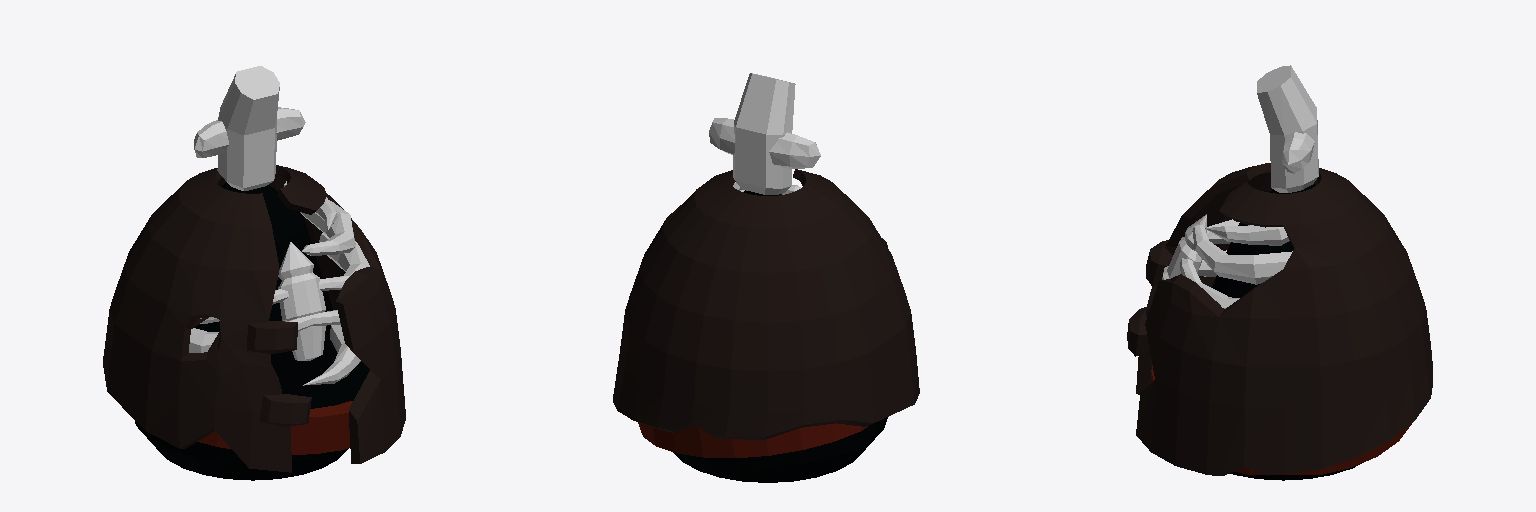
File: character_skeleton_mage_body.obj
3 renders of one model, left to right at view 1: azimuth 30°, elevation 25°; view 2: azimuth 150°, elevation 25°; view 3: azimuth 270°, elevation 25°, orthographic.
Visible parts, largest first — view 1: character_skeleton_mage_body_Cube.7682; view 2: character_skeleton_mage_body_Cube.7682; view 3: character_skeleton_mage_body_Cube.7682.
Part boxes in pixels (bbox=[...]): character_skeleton_mage_body_Cube.7682: bbox=[103, 66, 405, 480]; character_skeleton_mage_body_Cube.7682: bbox=[613, 73, 919, 482]; character_skeleton_mage_body_Cube.7682: bbox=[1127, 65, 1432, 480].
Bounding box in the file's own units: 0.7469 × 1.02 × 0.7702.